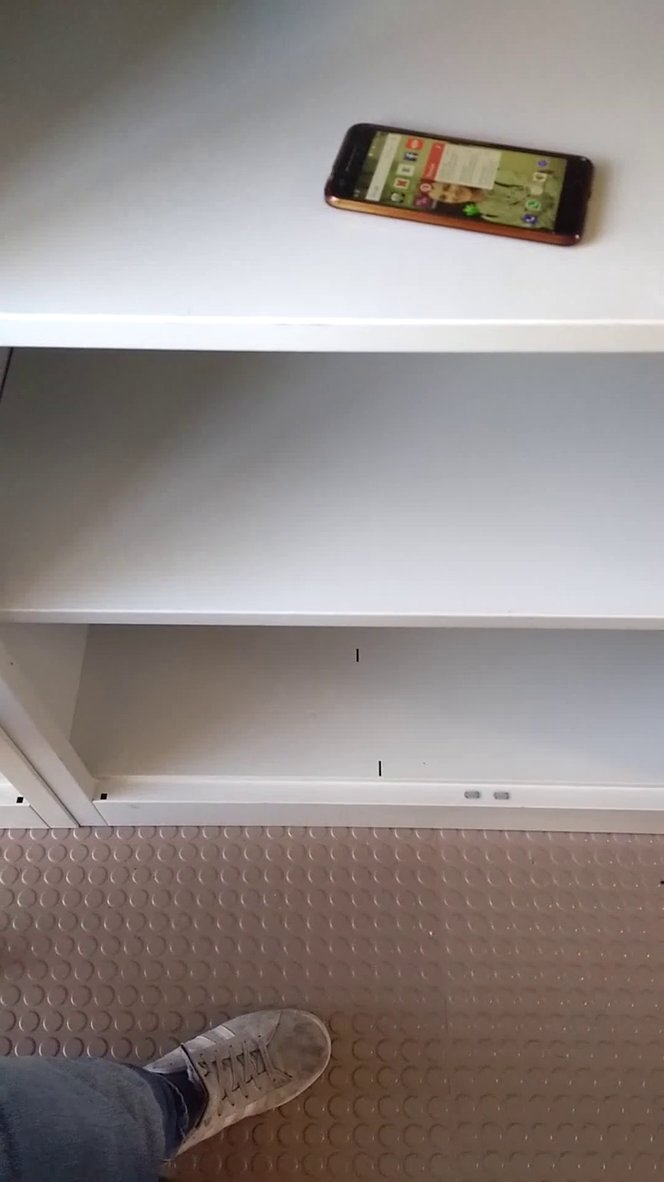phone: (318, 107, 616, 257)
